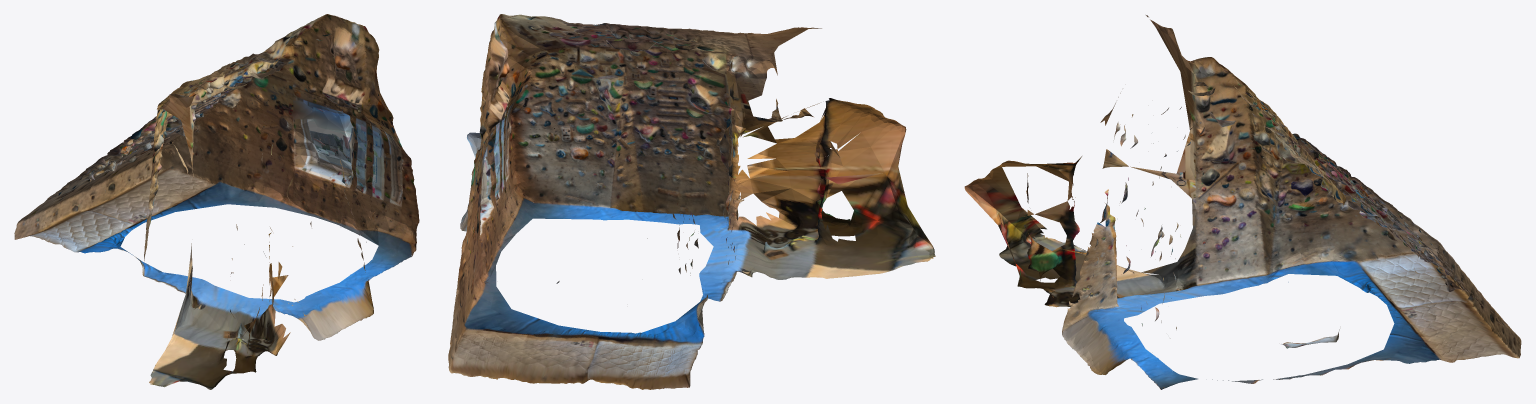
File: scan-v1.glb
The picture shows the model from 3 angles, left to right: view 1: azimuth 30°, elevation 25°; view 2: azimuth 150°, elevation 25°; view 3: azimuth 270°, elevation 25°; orthographic projection. The views are drawn at different scales.
Parts seen in each view (by area): view 1: mesh; view 2: mesh; view 3: mesh.
Part boxes in pixels (left/top/right/bottom): mesh: left=14, top=14, right=419, bottom=389; mesh: left=448, top=14, right=935, bottom=389; mesh: left=964, top=15, right=1521, bottom=389.
Bounding box in the file's own units: 5.69 × 3.94 × 7.71.
Materials: 1 (1 with a texture image).
